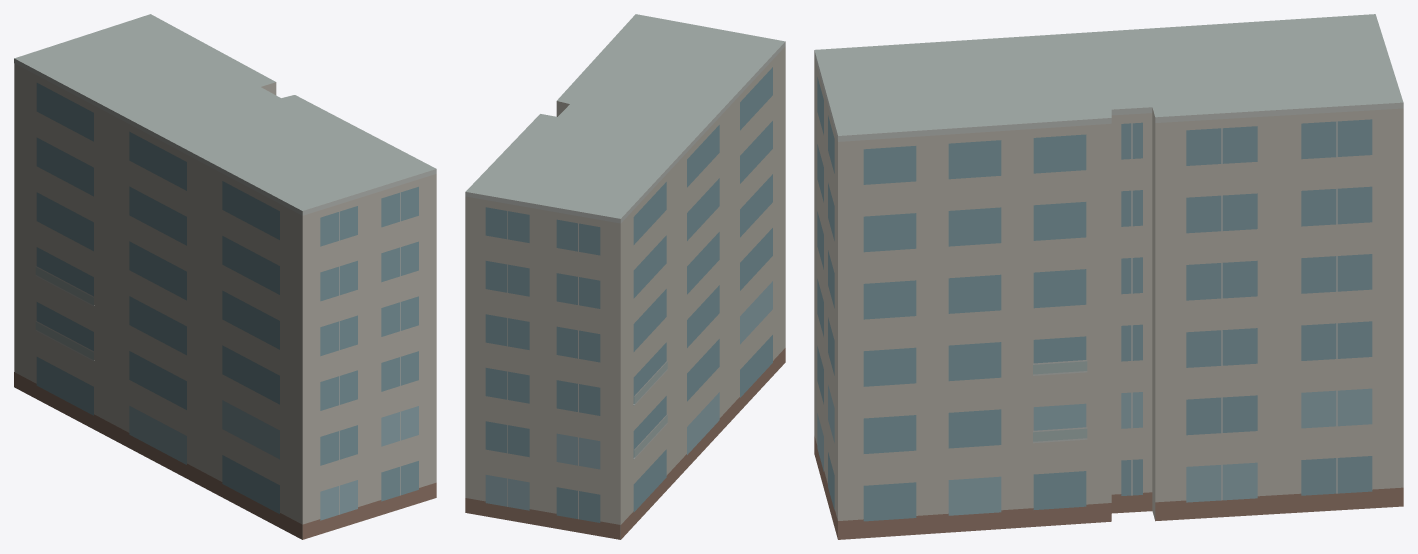
Rendered from survey-upis-33016778.glb.
The picture shows the model from 3 angles, left to right: view 1: azimuth 30°, elevation 25°; view 2: azimuth 150°, elevation 25°; view 3: azimuth 270°, elevation 25°; orthographic projection. The views are drawn at different scales.
Visible parts, largest first — view 1: survey-upis-33016778.tmp; view 2: survey-upis-33016778.tmp; view 3: survey-upis-33016778.tmp.
Boxes of the visible parts, x1,y1,x2,y2 form: survey-upis-33016778.tmp: [14, 14, 436, 539]; survey-upis-33016778.tmp: [465, 14, 785, 539]; survey-upis-33016778.tmp: [814, 14, 1403, 539].
Size of the model in its own units: 10.83 by 16.7 by 22.09.
